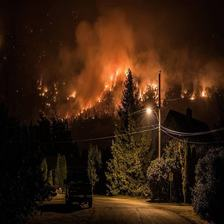fire: (40, 63, 200, 112)
